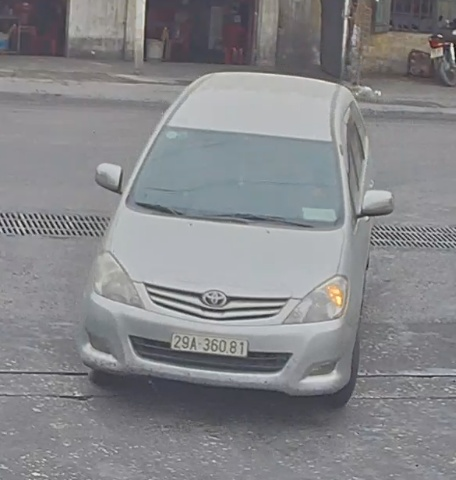vehicle plate: (165, 328, 255, 360)
